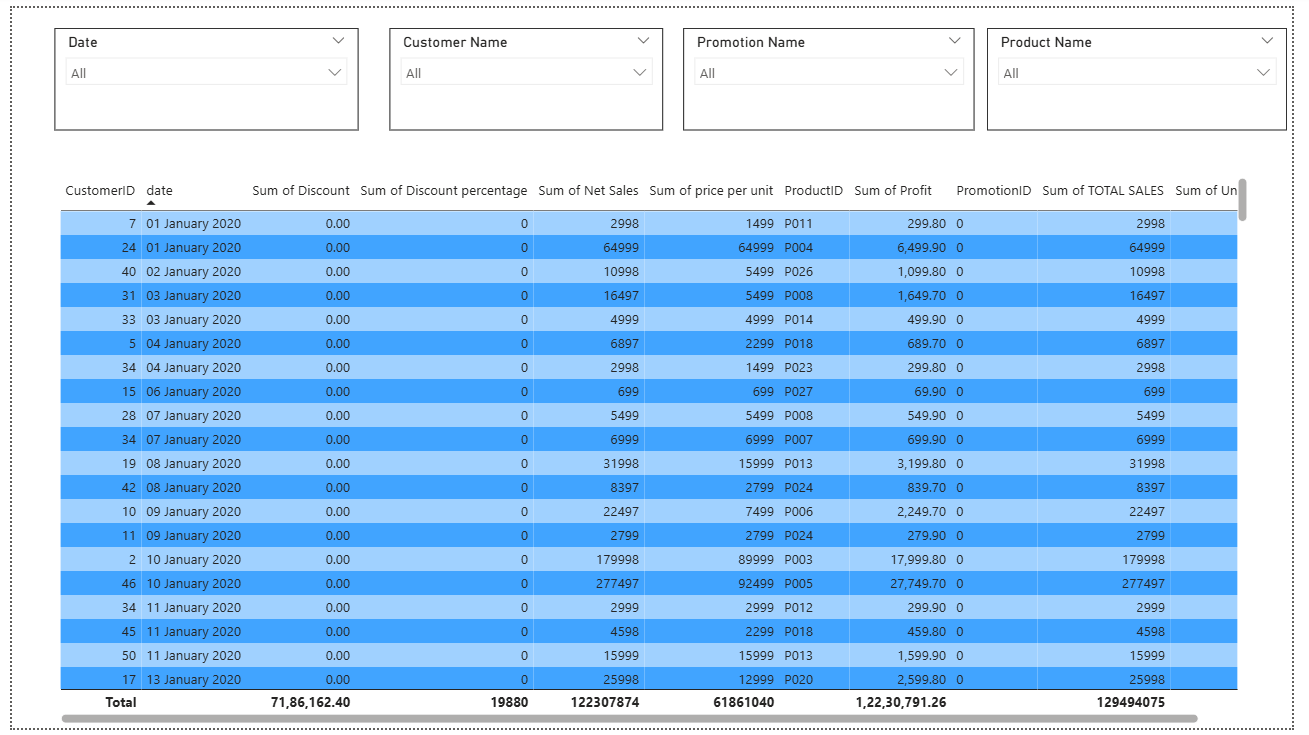

The dashboard page shown, as its layout file describes it:
{"tool":"powerbi","page":{"name":"Table Visual","canvas":[1280,720],"ordinal":4},"visuals":[{"type":"slicer","fields":{"Values":["Date Table 1.Date"]},"box":[42.5,20,303.8,102.5],"z":1000},{"type":"slicer","fields":{"Values":["Dim Customers.Customer Name"]},"box":[377.5,20,273.8,102.5],"z":2000},{"type":"slicer","fields":{"Values":["Dim Promotion.Promotion Name"]},"box":[671.2,20,291.2,102.5],"z":3000},{"type":"slicer","fields":{"Values":["Dim Product.Product Name"]},"box":[975.3,20,300,102.5],"z":4000},{"type":"tableEx","fields":{"Values":["fact.CustomerID","fact.date","Sum(fact.Discount)","Sum(fact.Discount percentage)","Sum(fact.Net Sales)","Sum(fact.price per unit)","fact.ProductID","Sum(fact.Profit)","fact.PromotionID","Sum(fact.TOTAL SALES)","Sum(fact.Unit sold)"]},"box":[42.5,165,1197.5,555],"z":4001}]}

Visuals, with their boxes in screenshot pixels (x1, y1, x2, y2), scaled from the page's 1280x720 canvas onto the 1309x735 screenshot:
slicer - Date Table 1.Date: detection(43, 20, 354, 125)
slicer - Dim Customers.Customer Name: detection(386, 20, 666, 125)
slicer - Dim Promotion.Promotion Name: detection(686, 20, 984, 125)
slicer - Dim Product.Product Name: detection(997, 20, 1304, 125)
tableEx - fact.CustomerID x fact.date: detection(43, 168, 1268, 734)
